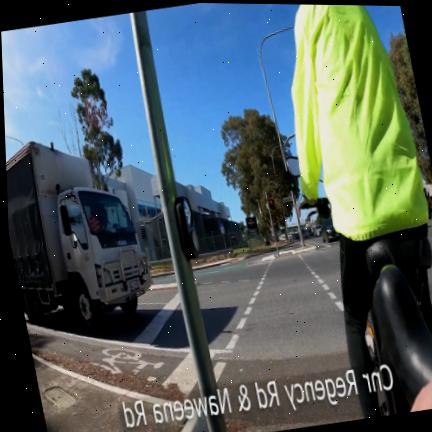Green_Bike_Lane: (194, 259, 270, 279), (153, 275, 176, 284)
